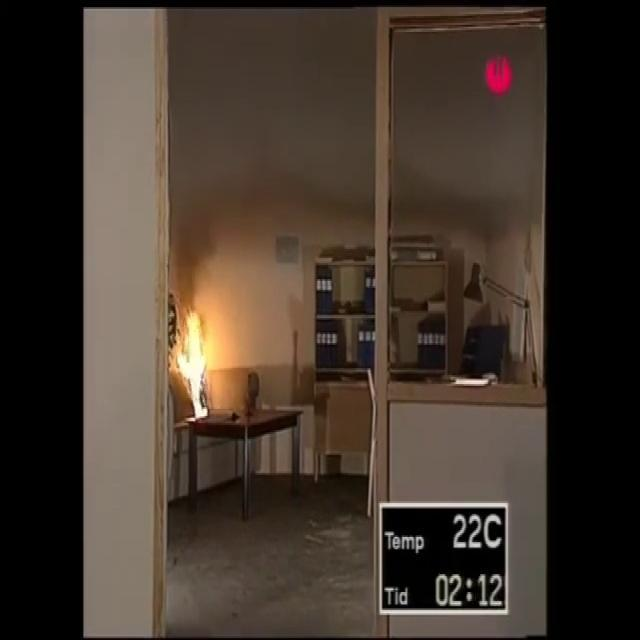Fire: (174, 308, 208, 420)
Smoke: (156, 19, 374, 225)
